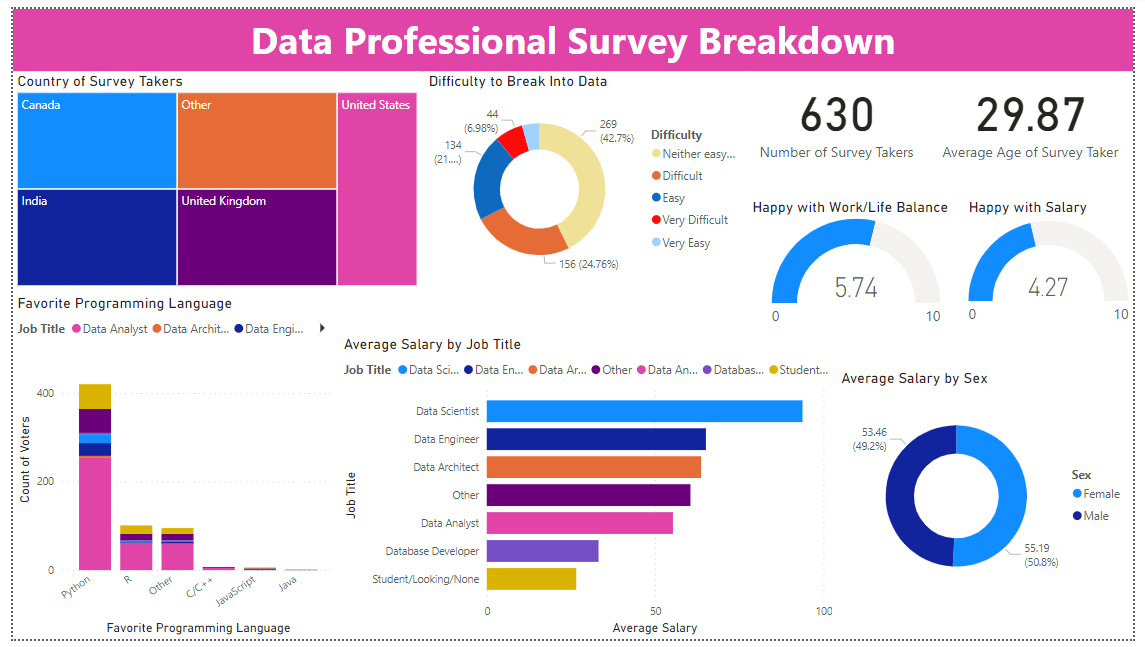

Layout of this report page (visuals, bound fields, positions):
{"tool":"powerbi","page":{"name":"Page 1","canvas":[1280,720],"ordinal":0},"visuals":[{"type":"textbox","box":[0,0,1280.3,71.4],"z":0},{"type":"card","fields":{"Values":["Count(Data Professional Survey.Unique ID)"]},"box":[837.1,71.4,208.6,105.7],"z":1000},{"type":"card","fields":{"Values":["Avg(Data Professional Survey.Q10 - Current Age)"]},"box":[1045.7,71.4,234.3,105.7],"z":2000},{"type":"barChart","title":"Average Salary by Job Title","fields":{"Category":["Data Professional Survey.Q1 - Which Title Best Fits your Current Role?.1"],"Y":["Avg(Data Professional Survey.Average Salary )"],"Series":["Data Professional Survey.Q1 - Which Title Best Fits your Current Role?.1"]},"box":[372.9,372.9,568.6,347.1],"z":3000},{"type":"columnChart","title":" Favorite Programming Language","fields":{"Category":["Data Professional Survey.Q5 - Favorite Programming Language.1"],"Y":["CountNonNull(Data Professional Survey.Unique ID)"],"Series":["Data Professional Survey.Q1 - Which Title Best Fits your Current Role?.1"]},"box":[0,325.7,372.9,394.3],"z":4000},{"type":"treemap","title":"Country of Survey Takers","fields":{"Group":["Data Professional Survey.Q11 - Which Country do you live in?.1"],"Values":["Count(Data Professional Survey.Q11 - Which Country do you live in?.1)"]},"box":[0,71.4,467.1,250],"z":5000},{"type":"gauge","title":"Happy with Work/Life Balance","fields":{"Y":["Avg(Data Professional Survey.Q6 - How Happy are you in your Current Position with the following? (Work/Life Balance))"],"MinValue":["Min(Data Professional Survey.Q6 - How Happy are you in your Current Position with the following? (Work/Life Balance))1"],"MaxValue":["Max(Data Professional Survey.Q6 - How Happy are you in your Current Position with the following? (Work/Life Balance))2"]},"box":[840,215.7,247.1,157.1],"z":6000},{"type":"gauge","title":"Happy with Salary","fields":{"Y":["Avg(Data Professional Survey.Q6 - How Happy are you in your Current Position with the following? (Salary))"],"MinValue":["Min(Data Professional Survey.Q6 - How Happy are you in your Current Position with the following? (Salary))"],"MaxValue":["Max(Data Professional Survey.Q6 - How Happy are you in your Current Position with the following? (Salary))"]},"box":[1087.1,215.7,192.9,157.1],"z":7000},{"type":"donutChart","title":" Average Salary  by Sex","fields":{"Category":["Data Professional Survey.Q9 - Male/Female?"],"Y":["Avg(Data Professional Survey.Average Salary )"]},"box":[941.4,411.4,338.6,271.4],"z":8000},{"type":"donutChart","title":"Difficulty to Break Into Data","fields":{"Category":["Data Professional Survey.Q7 - How difficult was it for you to break into Data?"],"Y":["CountNonNull(Data Professional Survey.Q7 - How difficult was it for you to break into Data?)"]},"box":[470,71.4,372.9,250],"z":9000}]}

Visuals, with their boxes in screenshot pixels (x1, y1, x2, y2), scaled from the page's 1280x720 canvas onto the 1145x647 screenshot:
textbox: l=0, t=0, r=1144, b=64
card - Count(Data Professional Survey.Unique ID): l=749, t=64, r=935, b=159
card - Avg(Data Professional Survey.Q10 - Current Age): l=935, t=64, r=1144, b=159
"Average Salary by Job Title" barChart: l=334, t=335, r=842, b=646
" Favorite Programming Language" columnChart: l=0, t=293, r=334, b=646
"Country of Survey Takers" treemap: l=0, t=64, r=418, b=289
"Happy with Work/Life Balance" gauge: l=751, t=194, r=972, b=335
"Happy with Salary" gauge: l=972, t=194, r=1144, b=335
" Average Salary  by Sex" donutChart: l=842, t=370, r=1144, b=614
"Difficulty to Break Into Data" donutChart: l=420, t=64, r=754, b=289
